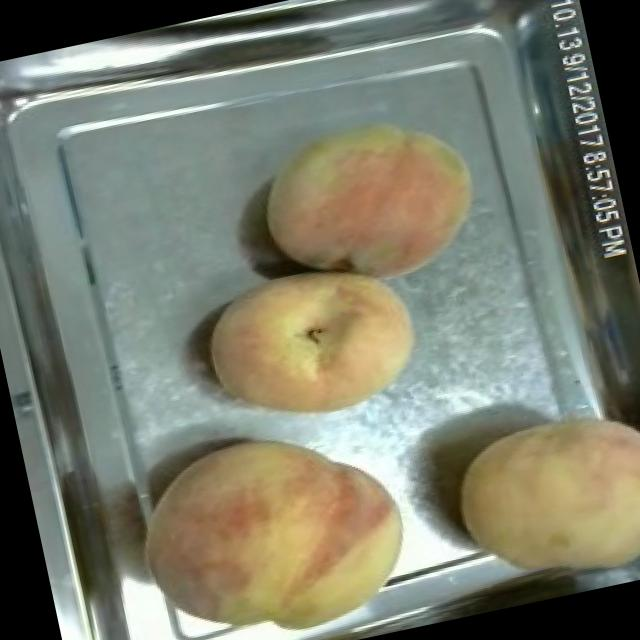Fruit: (118, 400, 432, 640), (242, 95, 498, 312), (188, 239, 436, 445), (429, 382, 640, 615)
